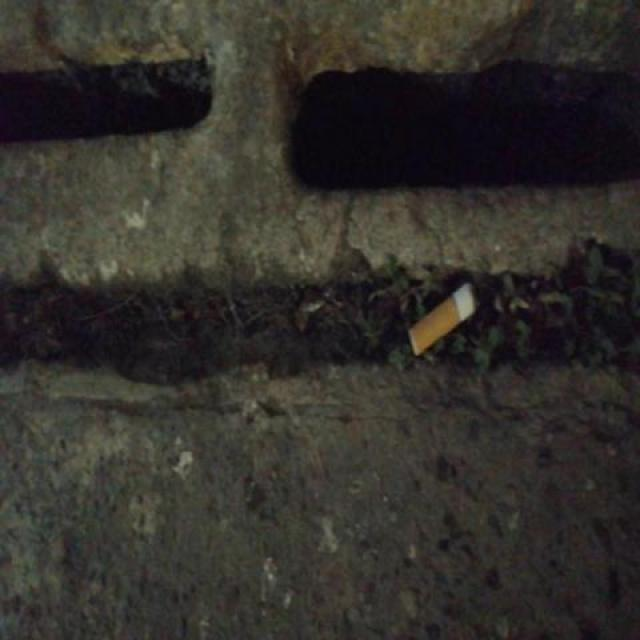non-organic waste: (403, 278, 481, 362)
